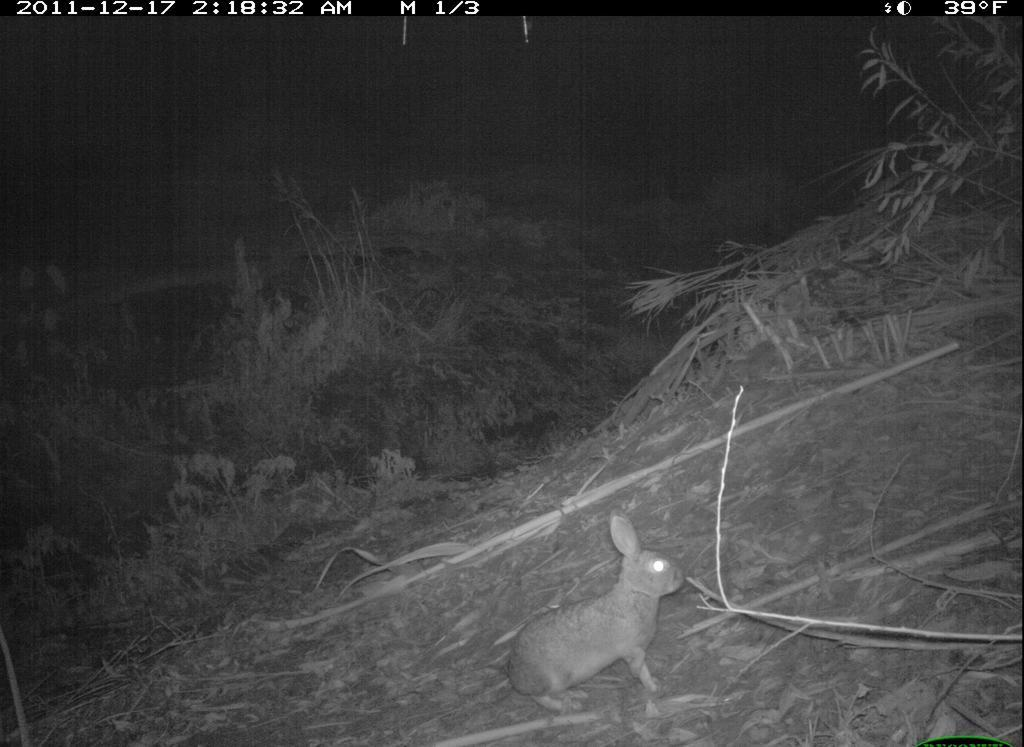rabbit: (497, 504, 702, 723)
